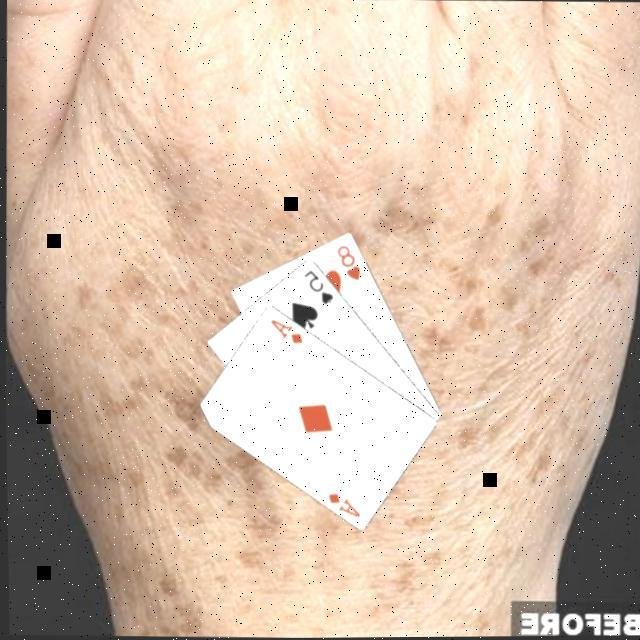5S: (300, 264, 336, 305)
8H: (332, 239, 364, 282)
AD: (323, 487, 362, 519), (266, 314, 306, 345)
